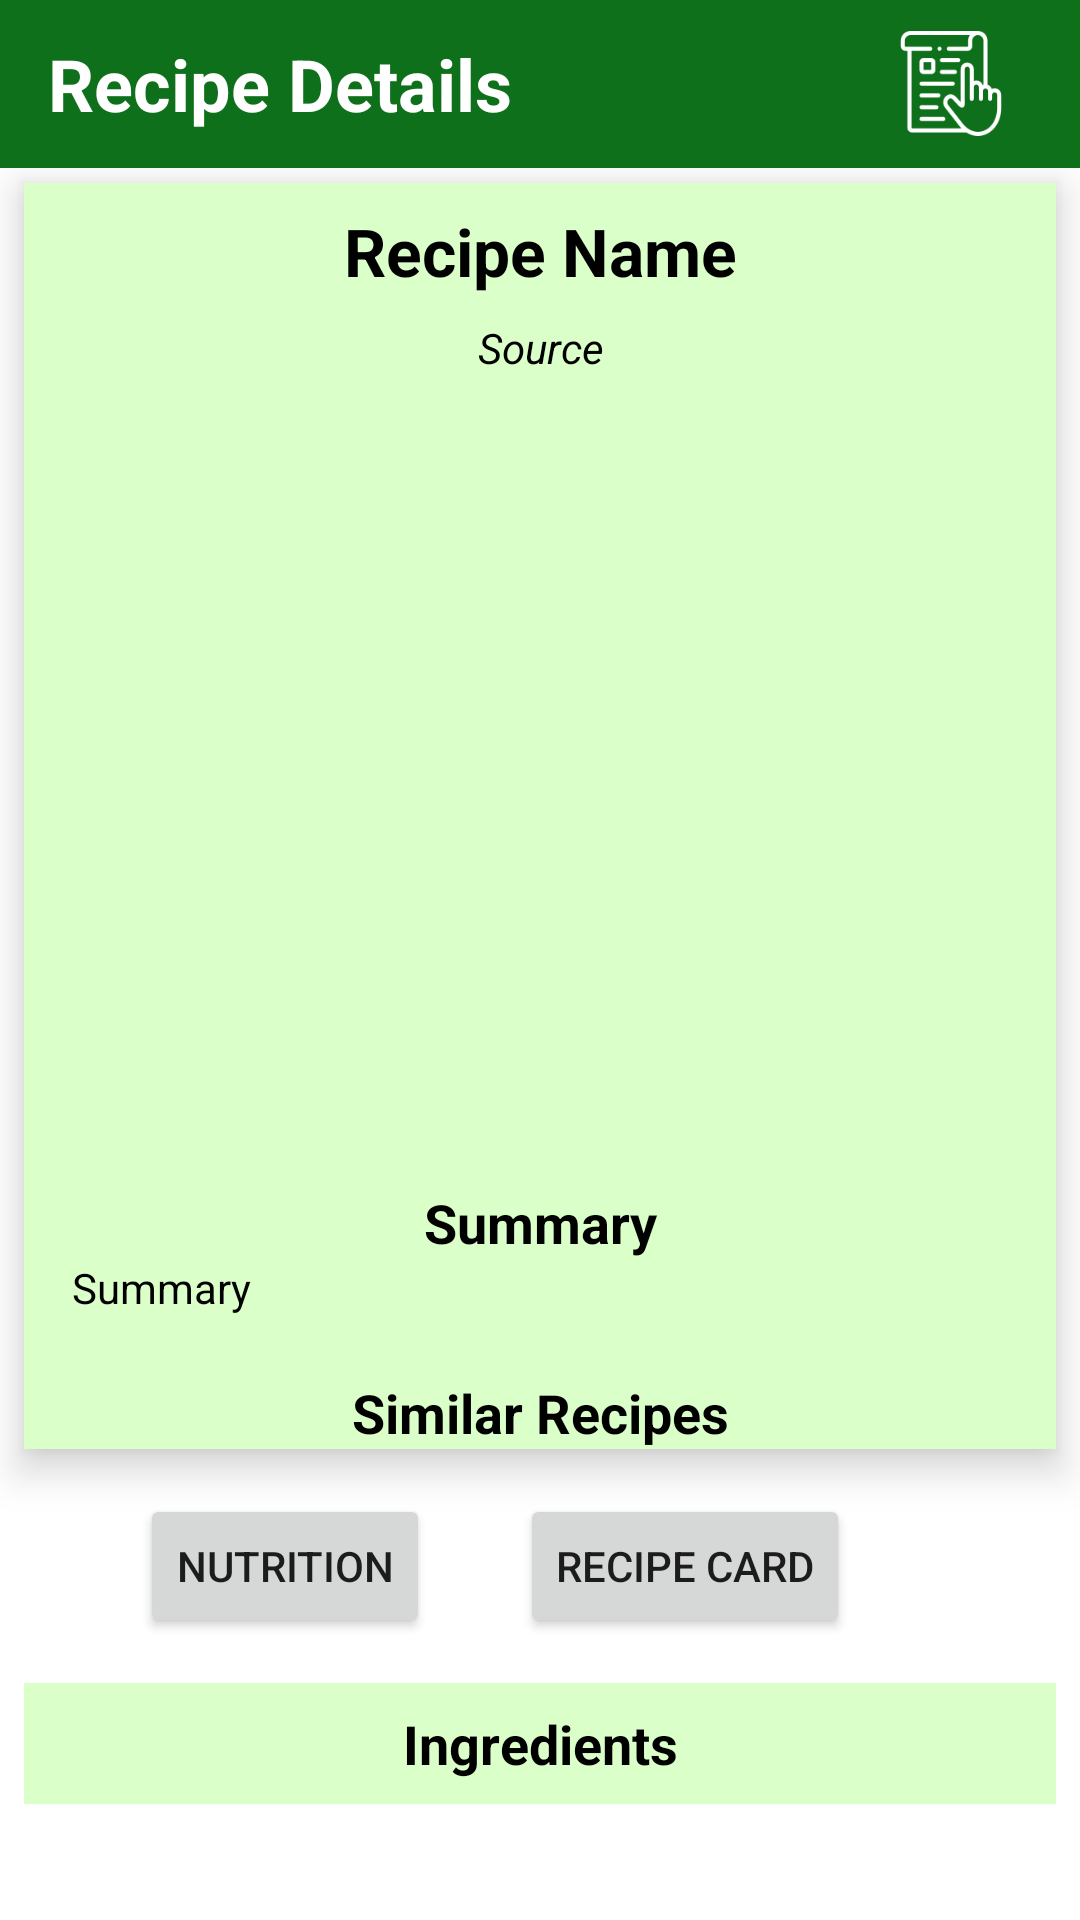

Named icons in this screenshot (1080x1920) and their centers, (x,y):
instructions: (951,83)
